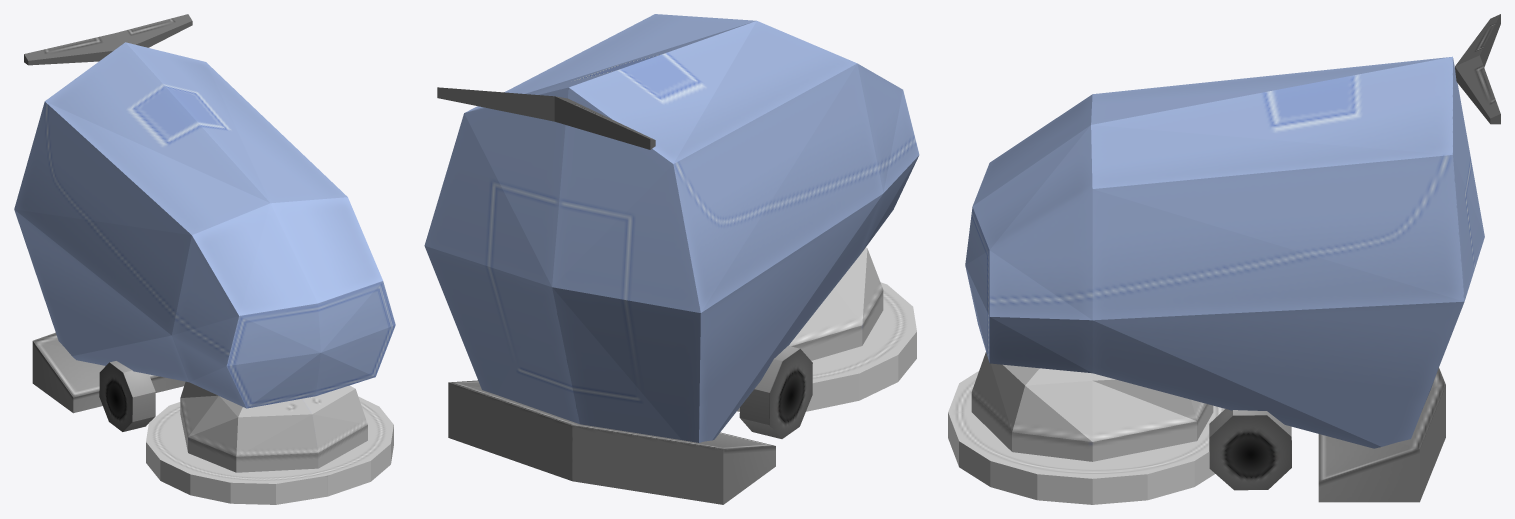
Rendered from Obstacle1.dae.
3 views of the same model, side by side, from view 1: azimuth 30°, elevation 25°; view 2: azimuth 150°, elevation 25°; view 3: azimuth 270°, elevation 25° (orthographic). The views are drawn at different scales.
Parts seen in each view (by area): view 1: Nettoyage; view 2: Nettoyage; view 3: Nettoyage.
Part boxes in pixels (x1,y1,x2,y2): Nettoyage: [14, 14, 395, 504]; Nettoyage: [424, 14, 919, 504]; Nettoyage: [948, 14, 1500, 504].
Size of the model in its own units: 1.15 by 2.01 by 1.54.
Materials: 1 (1 with a texture image).
